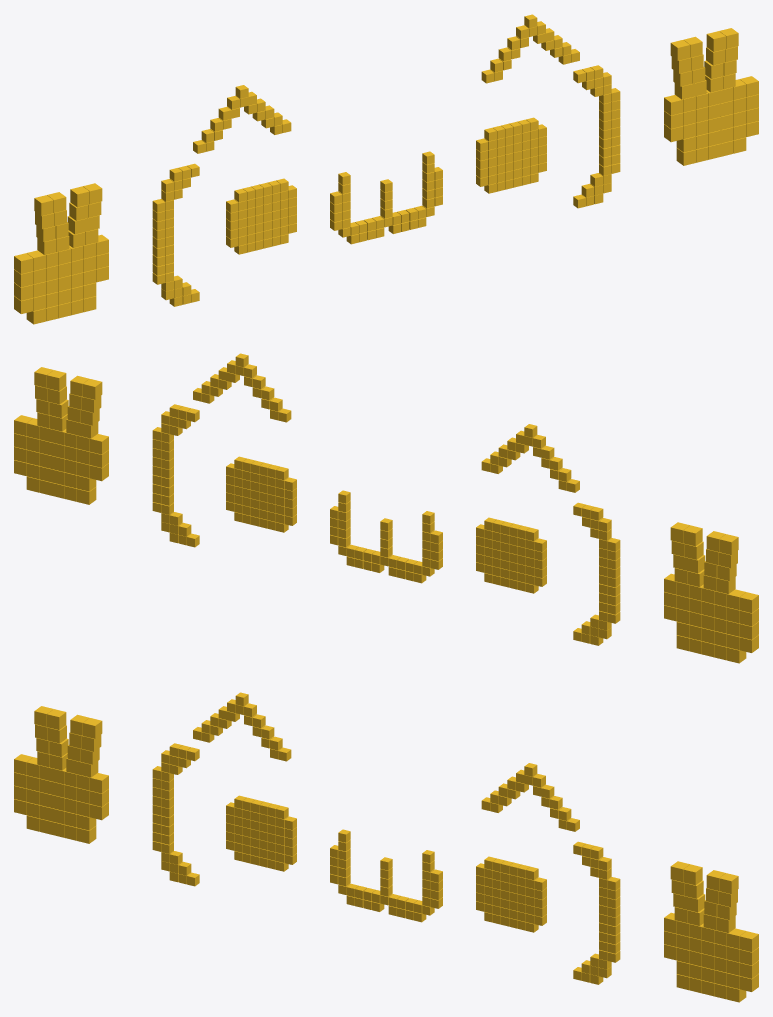
Rendered from YellowCatModel.glb.
3 renders of one model, top to bottom at view 1: azimuth 30°, elevation 25°; view 2: azimuth 150°, elevation 25°; view 3: azimuth 330°, elevation 25°, orthographic.
Visible parts, largest first — view 1: Cube; view 2: Cube; view 3: Cube.
Part boxes in pixels (bbox=[...]): Cube: bbox=[14, 14, 758, 324]; Cube: bbox=[14, 353, 758, 663]; Cube: bbox=[14, 692, 758, 1002].
Bounding box in the file's own units: 4.13 × 1.07 × 0.069.
Materials: 1 (1 with a texture image).
